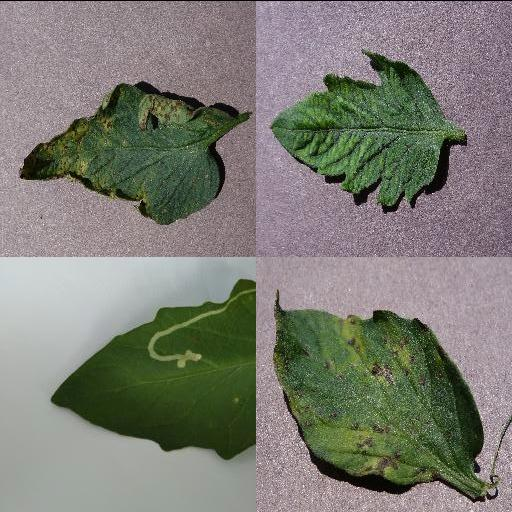Leaf Miner: (49, 276, 256, 464)
Mosaic Virus: (269, 48, 451, 208)
Septoria: (269, 289, 483, 487), (18, 80, 250, 223)
